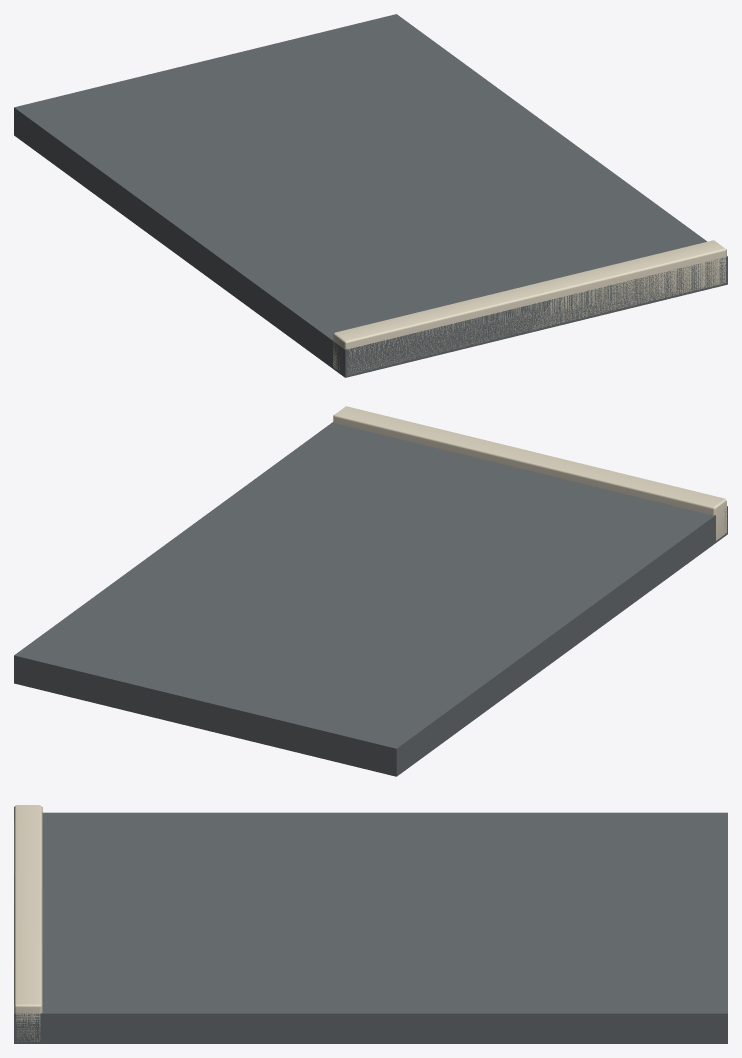
Rendered from pavement-kit.glb.
The picture shows the model from 3 angles, top to bottom: view 1: azimuth 30°, elevation 25°; view 2: azimuth 150°, elevation 25°; view 3: azimuth 270°, elevation 25°; orthographic projection. The views are drawn at different scales.
Parts seen in each view (by area): view 1: pavement-kit; view 2: pavement-kit; view 3: pavement-kit.
Boxes of the visible parts, box(x1,y1,x2,y2) form: pavement-kit: box(14, 14, 727, 377); pavement-kit: box(14, 406, 727, 776); pavement-kit: box(14, 805, 727, 1043).
Bounding box in the file's own units: 2 × 0.18 × 3.
Materials: 1 (1 with a texture image).
